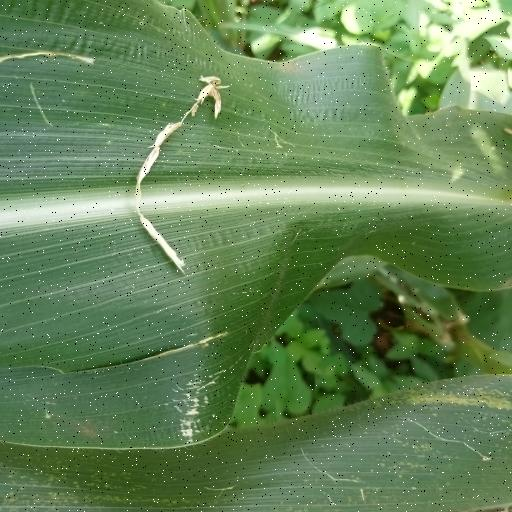Corn_Brown_Spots: (12, 0, 512, 512)
